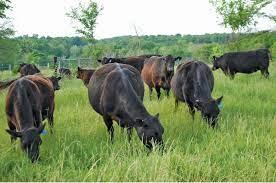cow: (87, 62, 166, 154), (170, 59, 224, 131), (4, 78, 48, 166), (20, 76, 61, 129), (212, 48, 273, 82), (142, 54, 182, 101), (97, 56, 146, 75), (76, 66, 98, 88), (17, 62, 41, 77)
